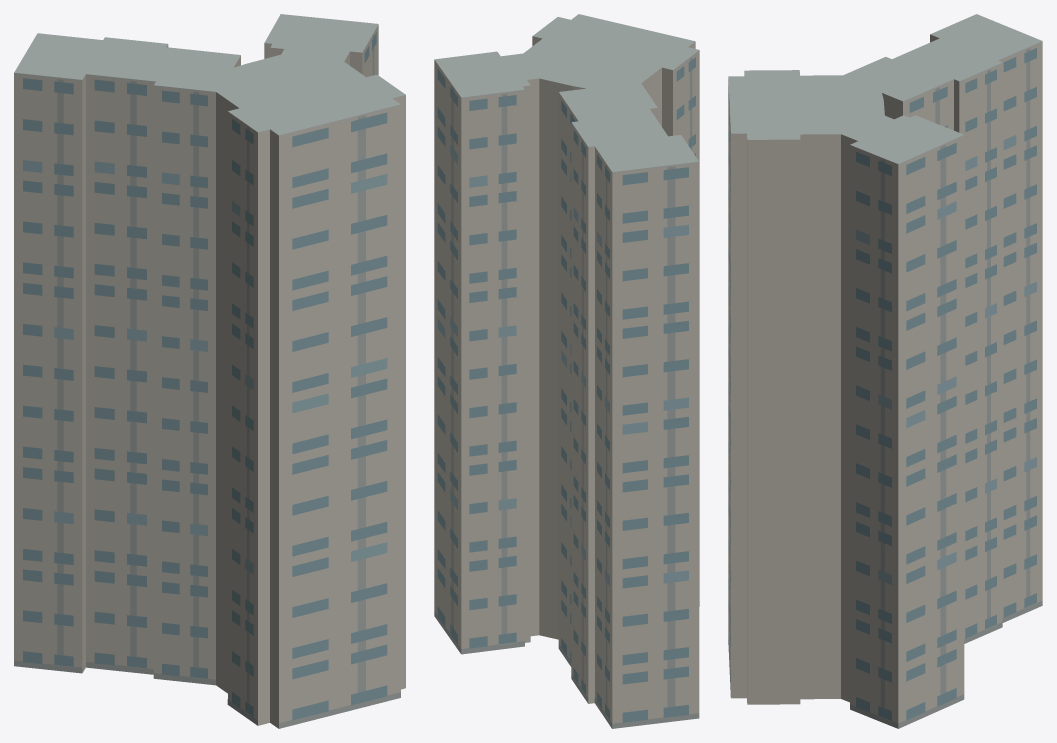
Rendered from residential-5e2b1477-3060-4bd1-b7fe-099a60aec581.glb.
3 views of the same model, side by side, from view 1: azimuth 30°, elevation 25°; view 2: azimuth 150°, elevation 25°; view 3: azimuth 270°, elevation 25° (orthographic). The views are drawn at different scales.
Visible parts, largest first — view 1: residential-5e2b1477-3060-4bd1-b7fe-099a60aec581.tmp; view 2: residential-5e2b1477-3060-4bd1-b7fe-099a60aec581.tmp; view 3: residential-5e2b1477-3060-4bd1-b7fe-099a60aec581.tmp.
Boxes of the visible parts, <box> form: residential-5e2b1477-3060-4bd1-b7fe-099a60aec581.tmp: <box>14,14,405,728</box>; residential-5e2b1477-3060-4bd1-b7fe-099a60aec581.tmp: <box>434,14,699,728</box>; residential-5e2b1477-3060-4bd1-b7fe-099a60aec581.tmp: <box>728,14,1042,728</box>.
Size of the model in its own units: 45.07 by 79 by 39.85.
